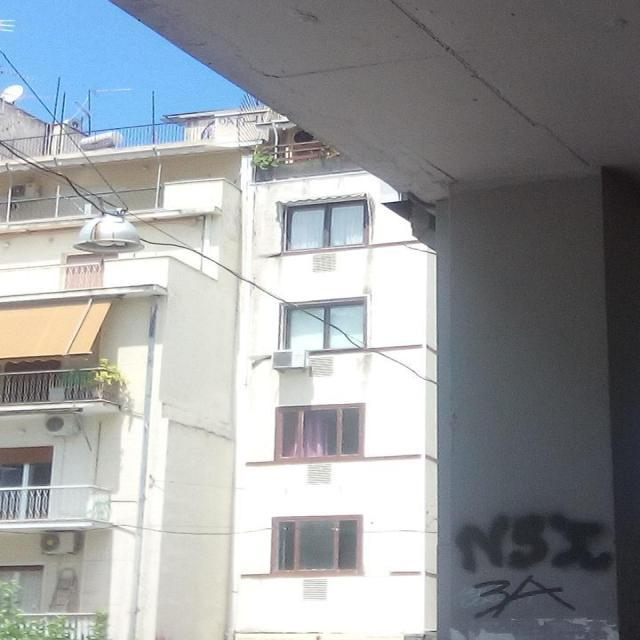nonspitting: (456, 513, 612, 571), (473, 576, 576, 620)
